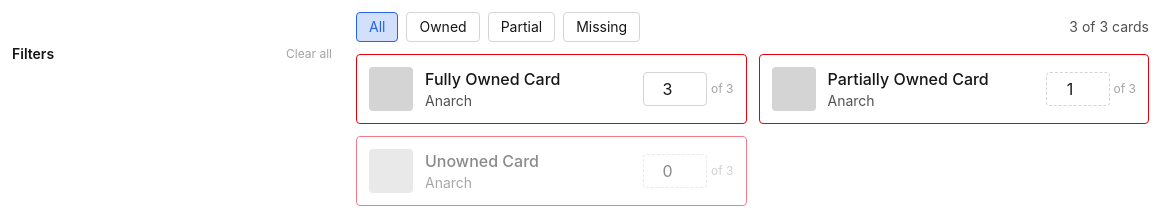
it: SetCardGrid › the "Owned" filter shows only cards owned to their full printed quantity
The width and height of the screenshot is (1164, 223).
Click the button "Owned".
click(443, 27)  # box [406, 12, 480, 42]
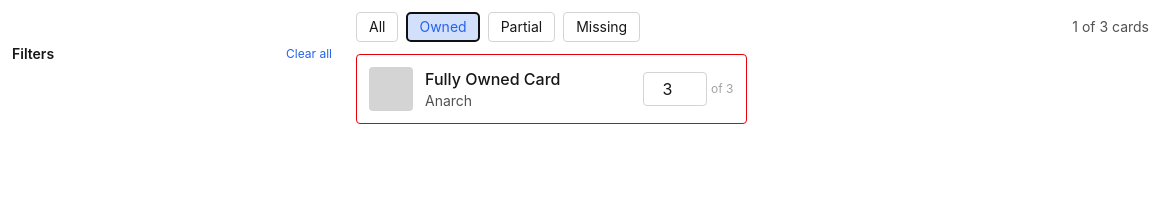
Expected: the text "Fully Owned Card" is shown, [425, 69, 560, 89]
Expected: the text "Partially Owned Card" is gone
Expected: the text "Unowned Card" is gone
